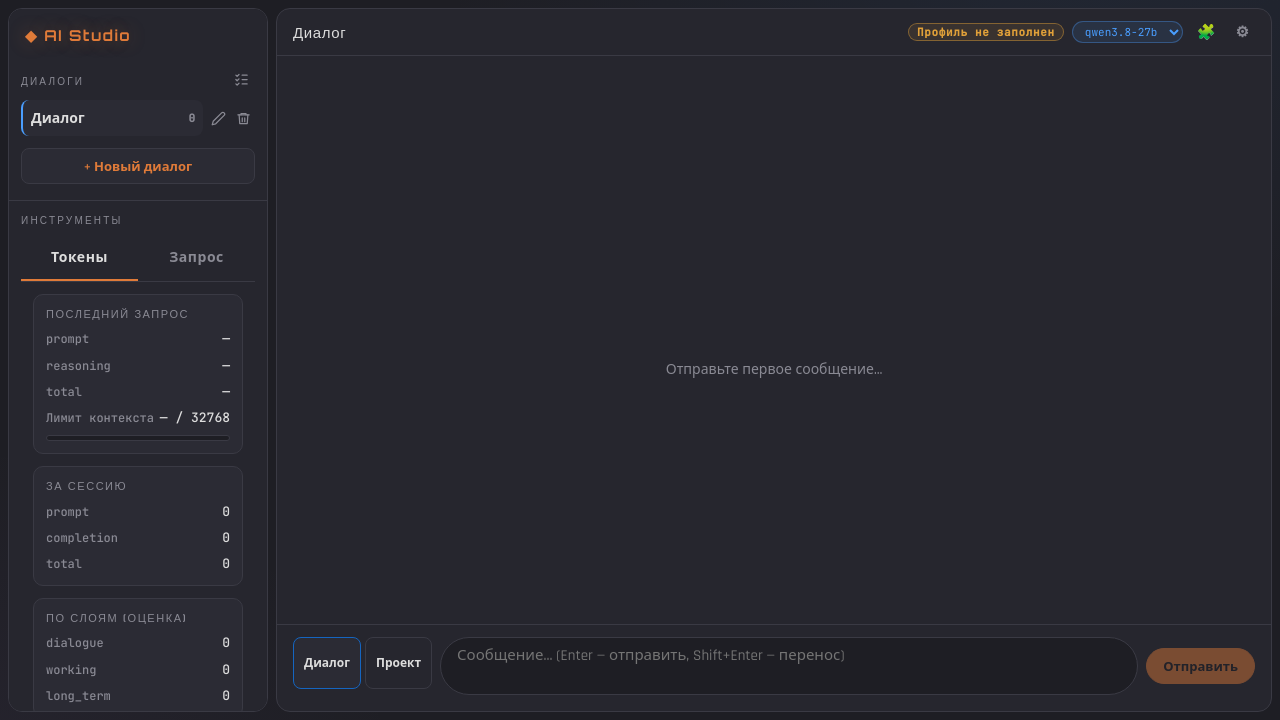
Test: Settings overlay — открытие и закрытие › клик по фону (backdrop) закрывает overlay
The width and height of the screenshot is (1280, 720).
Click the button named "Настройки". click: {"x": 1242, "y": 32}
box: [1230,22,1255,42]
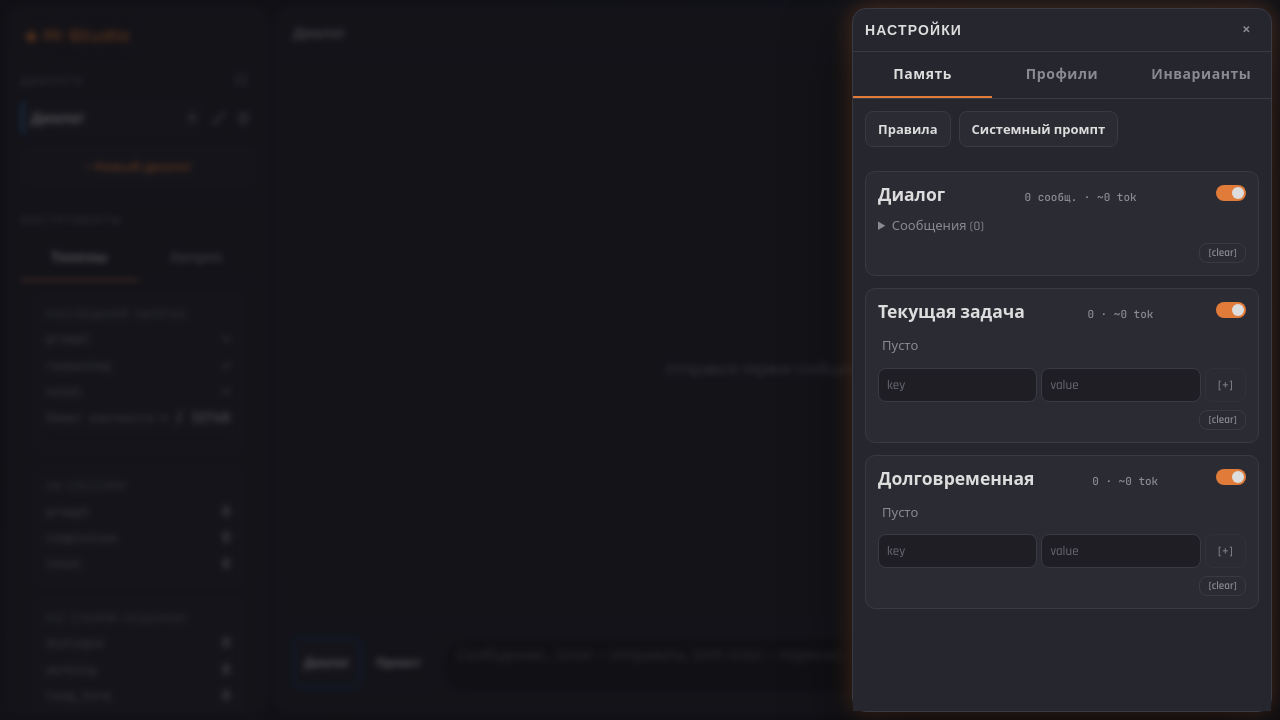
Now the tab "Память" is shown, box [853,52,992,98]
Now the element with class "settings-backdrop" is shown
Click the element with class "settings-backdrop". click: {"x": 640, "y": 360}
box: [0,0,1279,719]
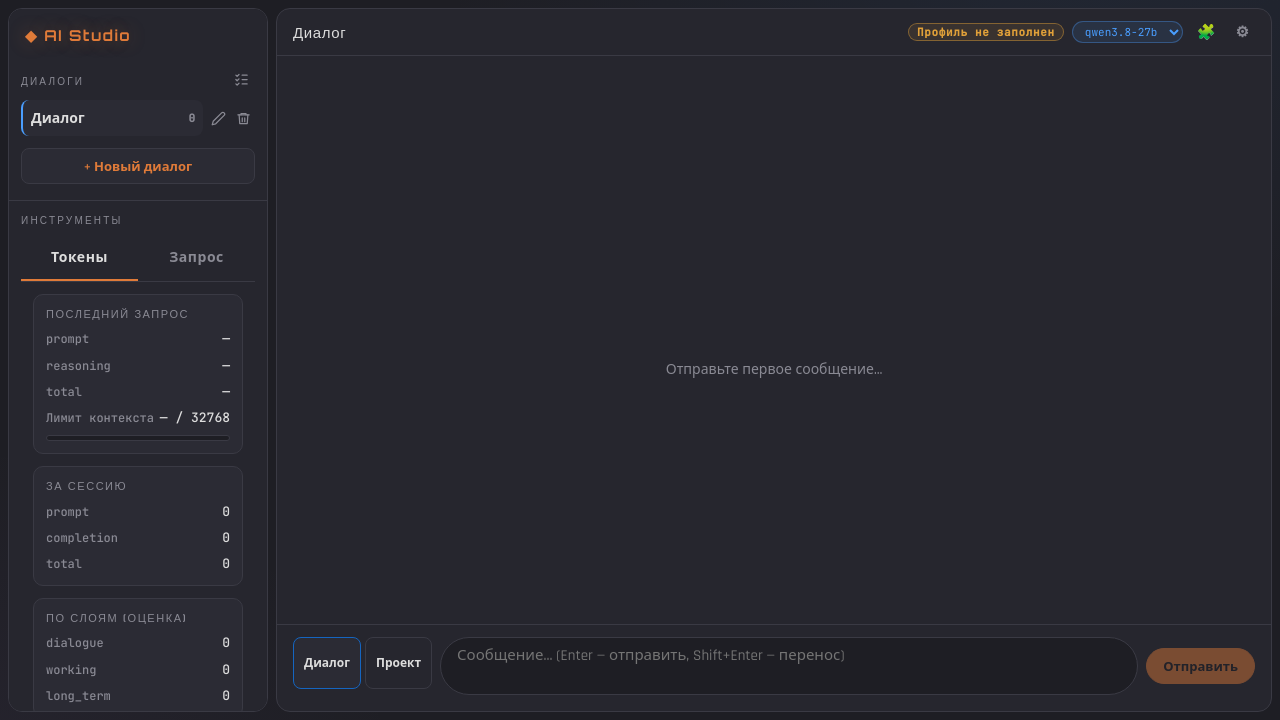
Now the tab "Память" is gone
